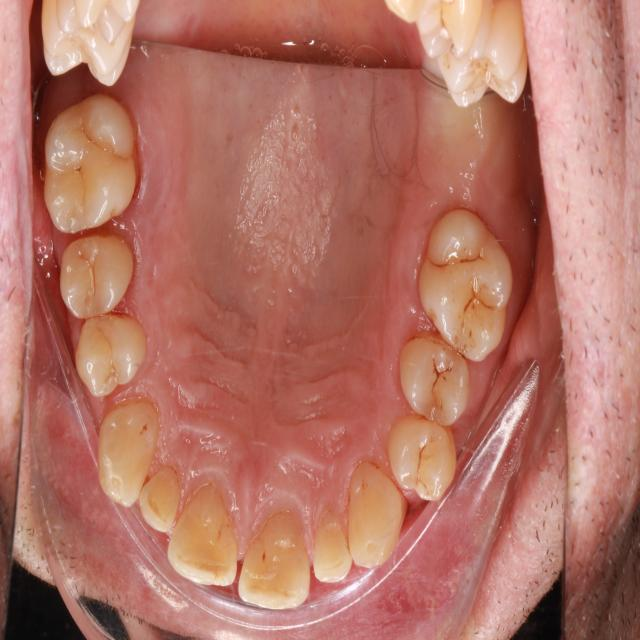tooth: (415, 195, 519, 381), (38, 87, 156, 241), (163, 459, 246, 599), (232, 492, 319, 623), (336, 459, 419, 582), (56, 230, 149, 337), (91, 398, 171, 515), (391, 336, 478, 439), (383, 410, 466, 516), (66, 307, 154, 399), (304, 501, 358, 588), (134, 455, 184, 539)
